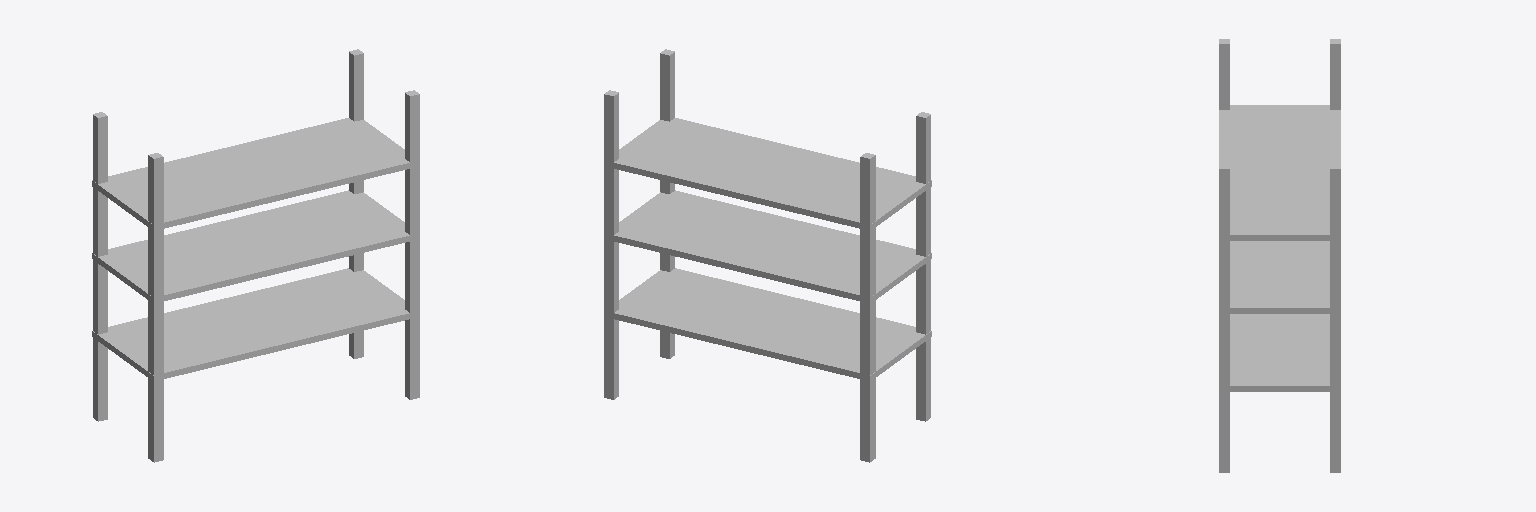
Rendered from regalr.obj.
The picture shows the model from 3 angles: view 1: azimuth 30°, elevation 25°; view 2: azimuth 150°, elevation 25°; view 3: azimuth 270°, elevation 25°; orthographic projection.
Visible parts, largest first — view 1: Box006, Box007, Box008, Box003, Box004, Box002, Box005; view 2: Box007, Box006, Box008, Box002, Box005, Box003, Box004; view 3: Box008, Box006, Box007, Box004, Box005, Box002, Box003.
Boxes of the visible parts, x1=… form: Box006: x1=92, y1=268, x2=418, y2=381; Box007: x1=92, y1=190, x2=418, y2=303; Box008: x1=92, y1=118, x2=418, y2=230; Box003: x1=148, y1=153, x2=163, y2=462; Box004: x1=405, y1=90, x2=419, y2=399; Box002: x1=93, y1=112, x2=107, y2=421; Box005: x1=349, y1=49, x2=363, y2=358; Box007: x1=605, y1=190, x2=931, y2=303; Box006: x1=605, y1=268, x2=931, y2=381; Box008: x1=605, y1=118, x2=931, y2=230; Box002: x1=860, y1=153, x2=875, y2=462; Box005: x1=604, y1=90, x2=618, y2=399; Box003: x1=916, y1=112, x2=930, y2=421; Box004: x1=660, y1=49, x2=674, y2=358; Box008: x1=1219, y1=105, x2=1340, y2=240; Box006: x1=1230, y1=314, x2=1329, y2=391; Box007: x1=1230, y1=241, x2=1329, y2=313; Box004: x1=1219, y1=164, x2=1229, y2=472; Box005: x1=1330, y1=164, x2=1340, y2=472; Box002: x1=1330, y1=39, x2=1340, y2=109; Box003: x1=1219, y1=39, x2=1229, y2=109.
Bounding box in the file's own units: 54.2 × 59.06 × 21.65.